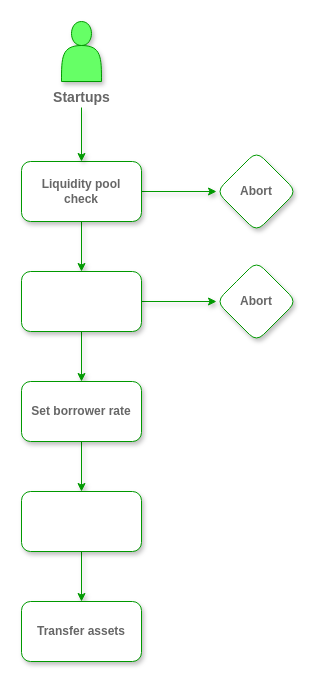
The diagram is 320 pixels wide and 686 high, and some of its shapes have lost their labels. The centre of each missing label's shape, as x and y in pixels:
"Startup liquidity check" belongs at point (82, 302).
"Utility rate and interest rates adjust" belongs at point (82, 522).
